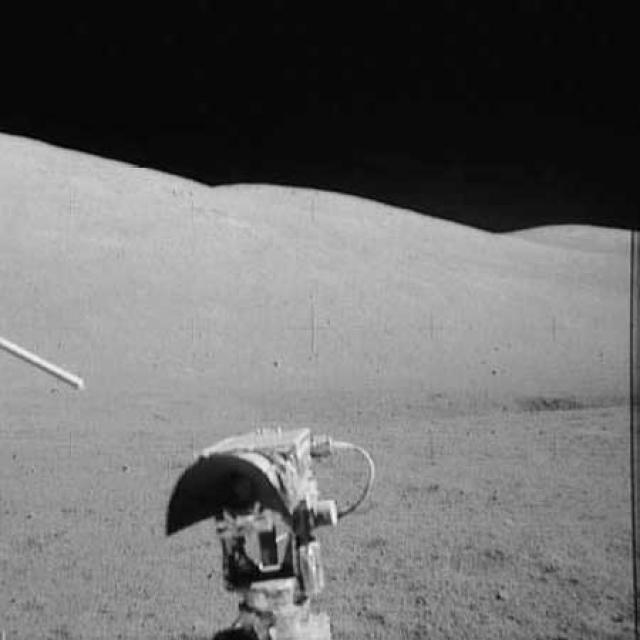artifact: (160, 416, 390, 638), (0, 328, 88, 402)
crater: (393, 387, 640, 425)
